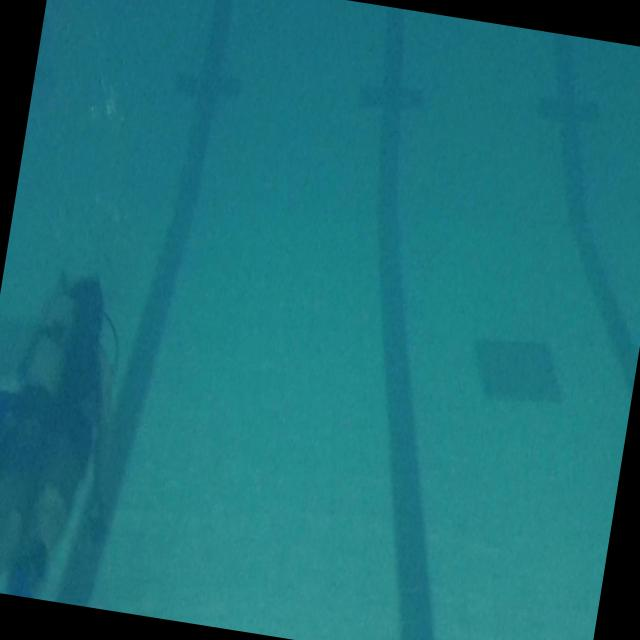human: (0, 257, 135, 606)
